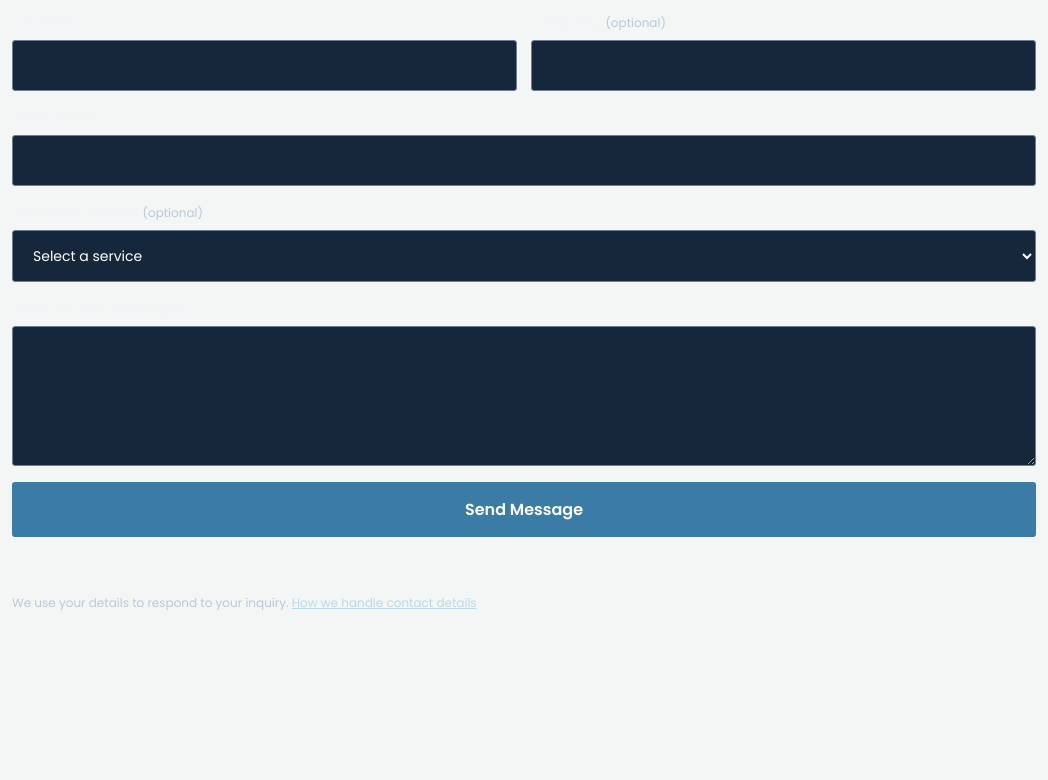
Test: shows loading and announces success after a valid submission
Step 1. Type "Ada Example" into the field with id "contact-name" → point(264, 66), box [12,40,517,91]
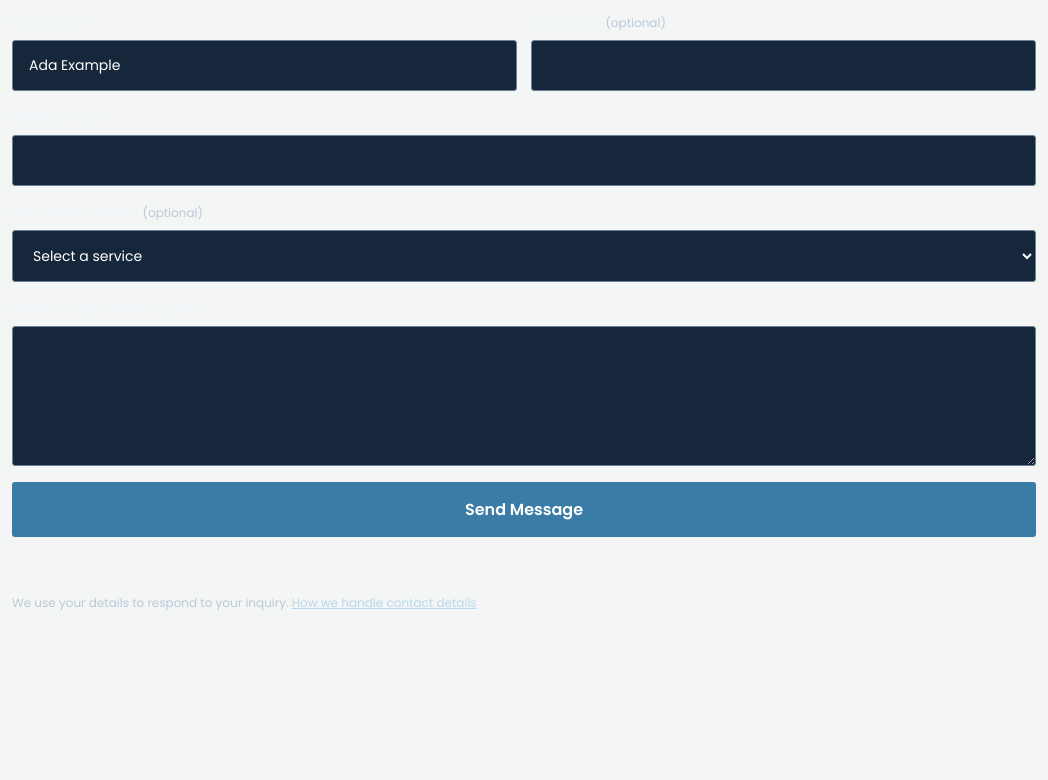
Step 2. Type "ada@example.com" into the field with id "contact-email" → point(524, 160), box [12,135,1036,186]
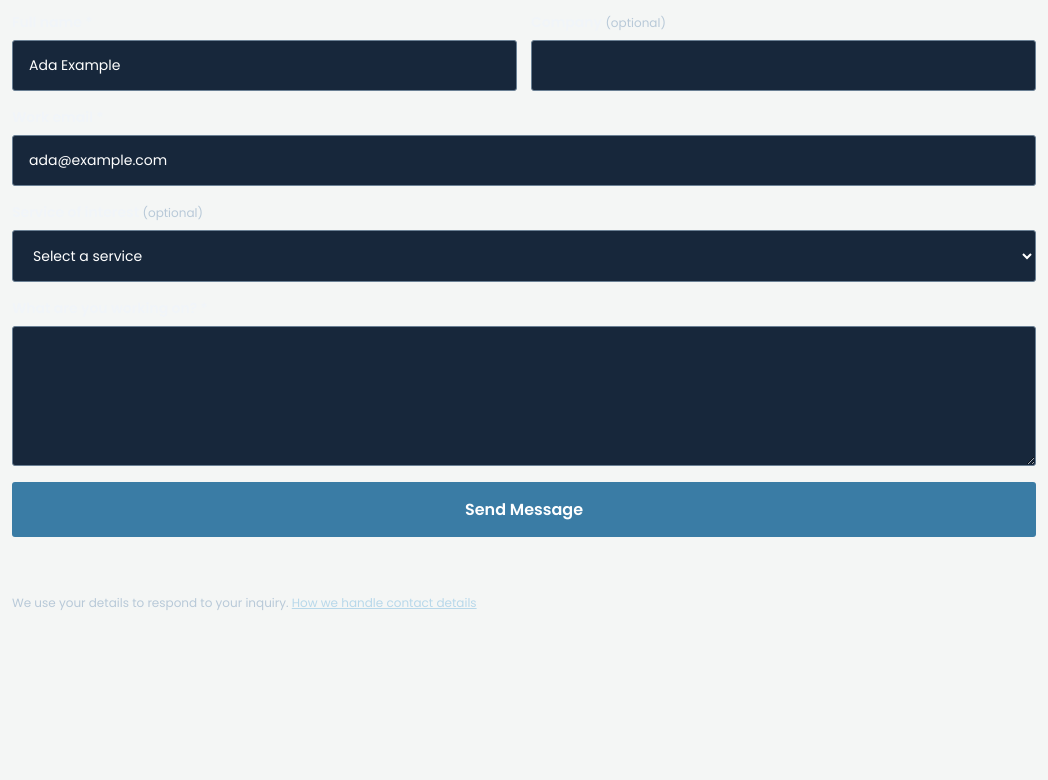
Step 3. Type "Please discuss our new application." into the text box with id "contact-message" → point(524, 396), box [12,326,1036,466]
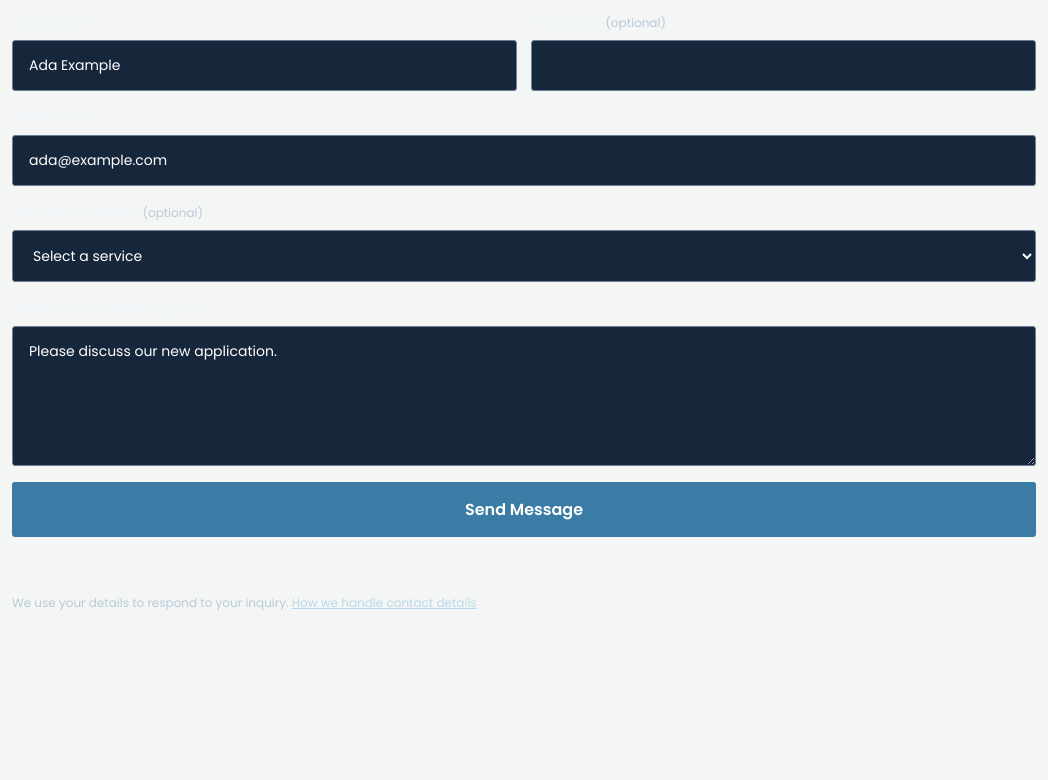
Step 4. Submit the form
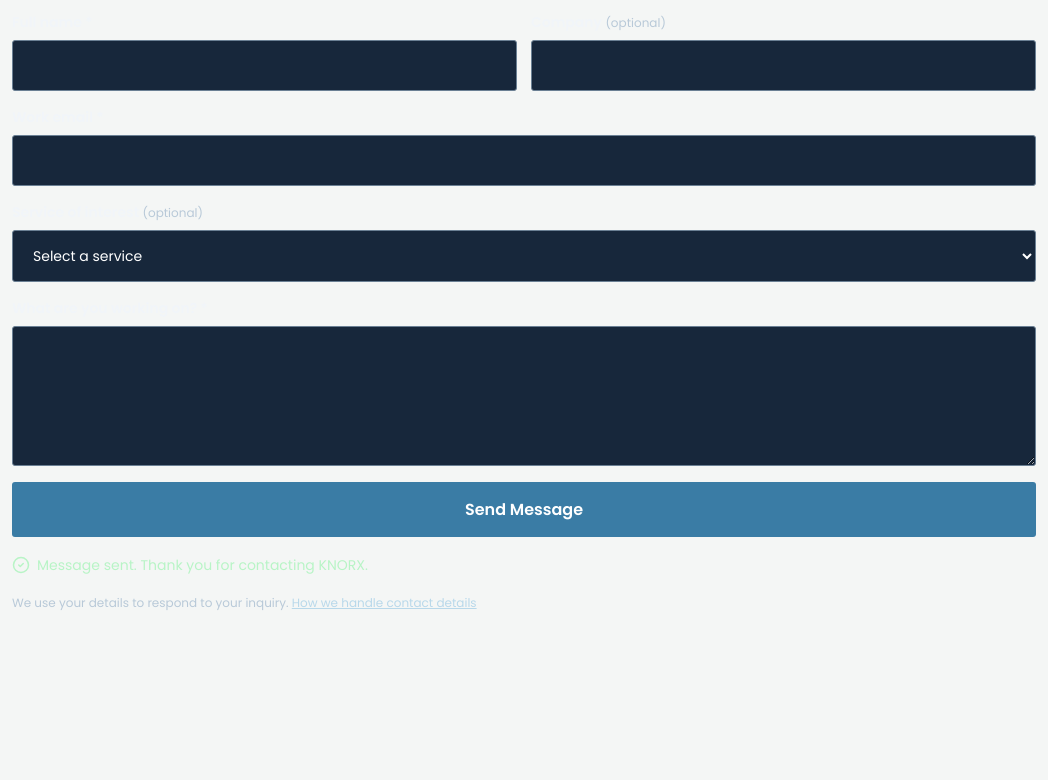
Check: the message shows "Message sent", box [37,554,368,574]
